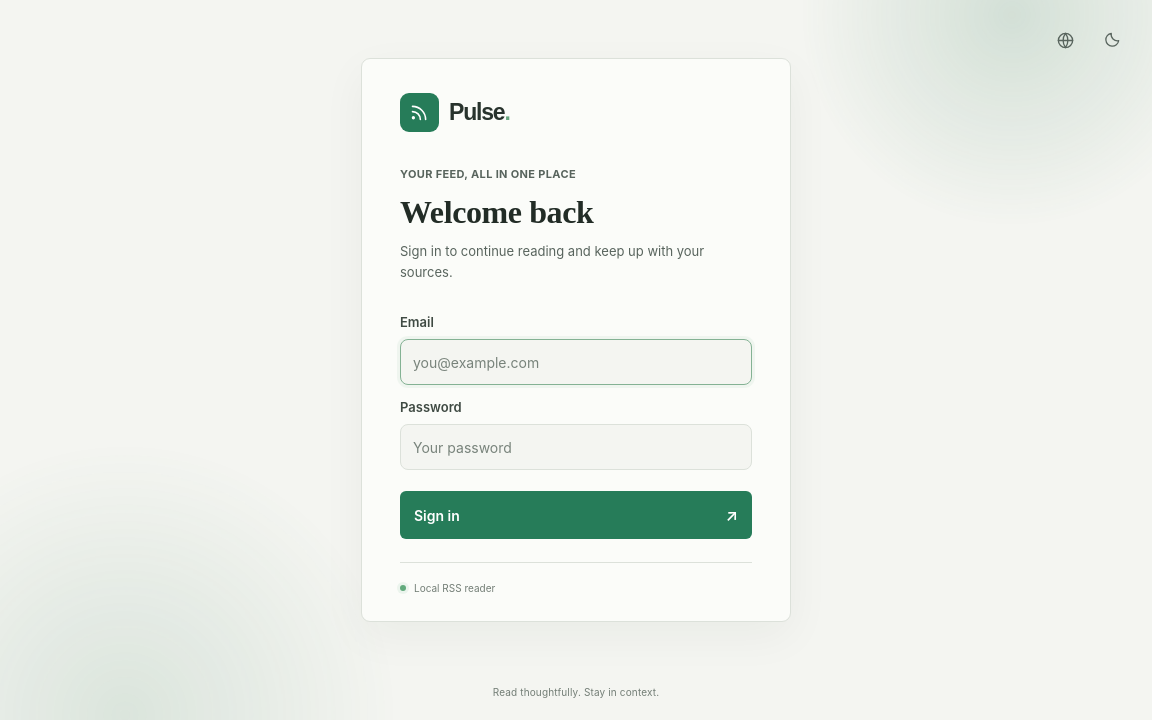
it: session-aware reader shell › shows sign-in before loading the private library and returns to sign-in after logout
This screenshot has width=1152, height=720.
Check: the heading "Welcome back" is shown, box [400,194,593,230]
Type "reader@example.com" into the field labelled "Email" at {"x": 576, "y": 362}, box [400,340,752,386]
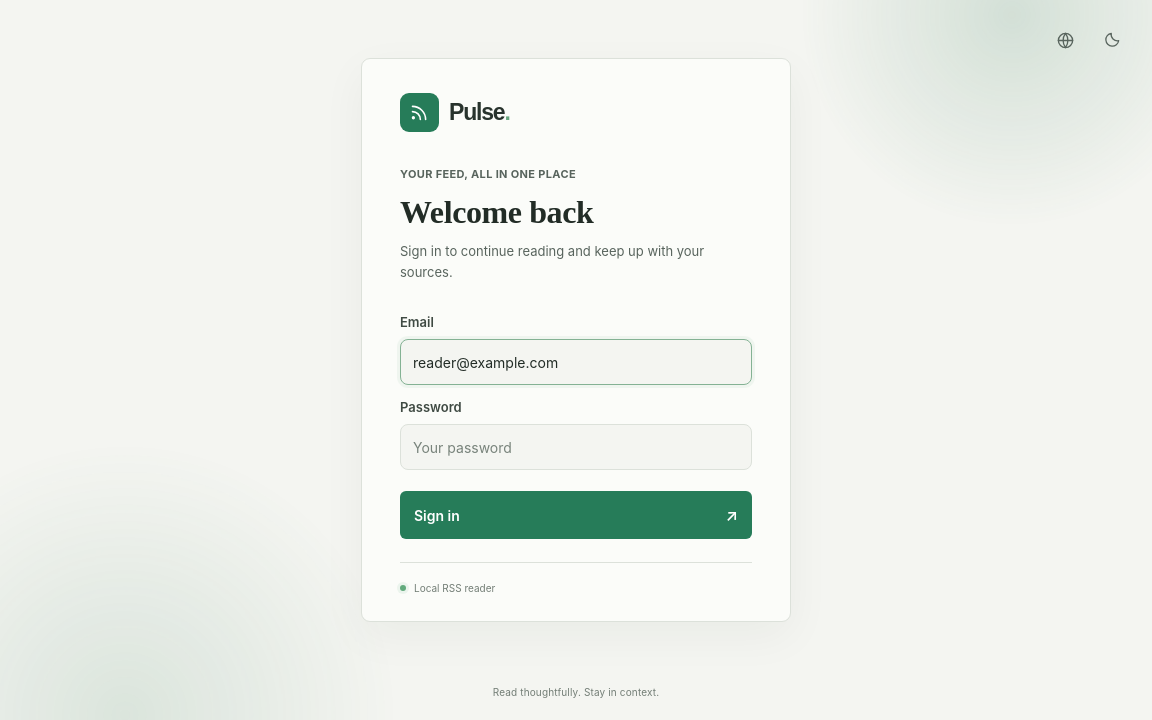
Type "a-long-password" into the password field labelled "Password" at {"x": 576, "y": 448}, box [400,424,752,470]
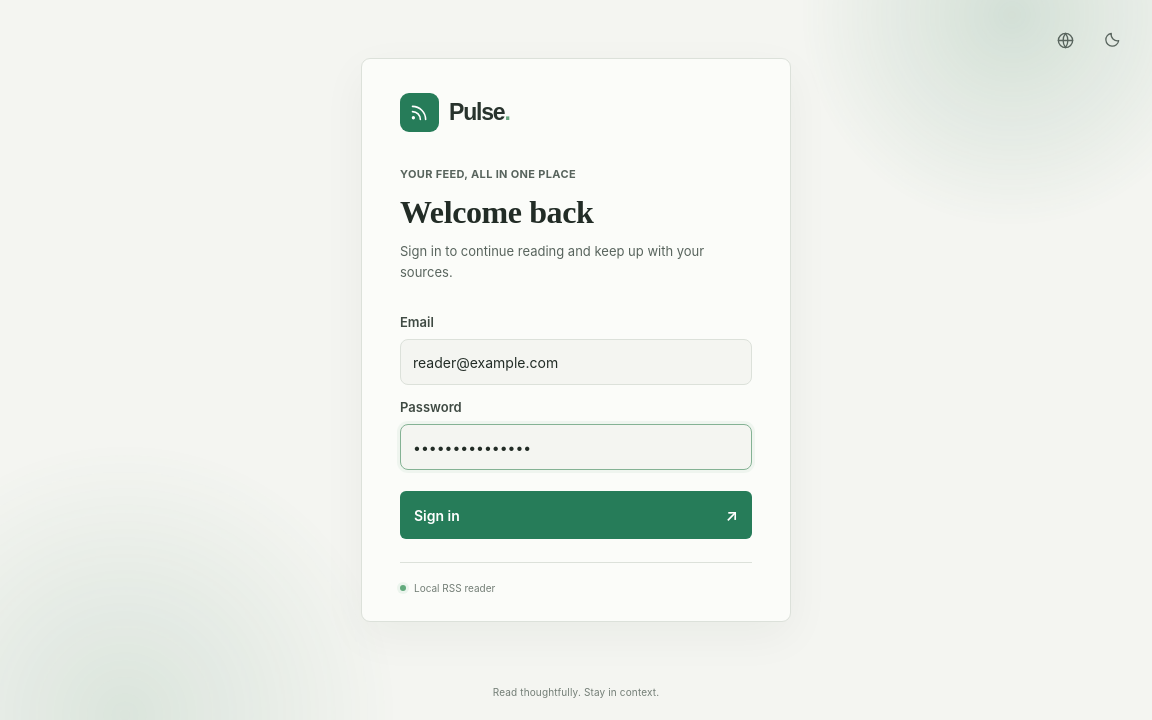
Click the button "Sign in ↗" at {"x": 437, "y": 515}, box [400,492,752,540]
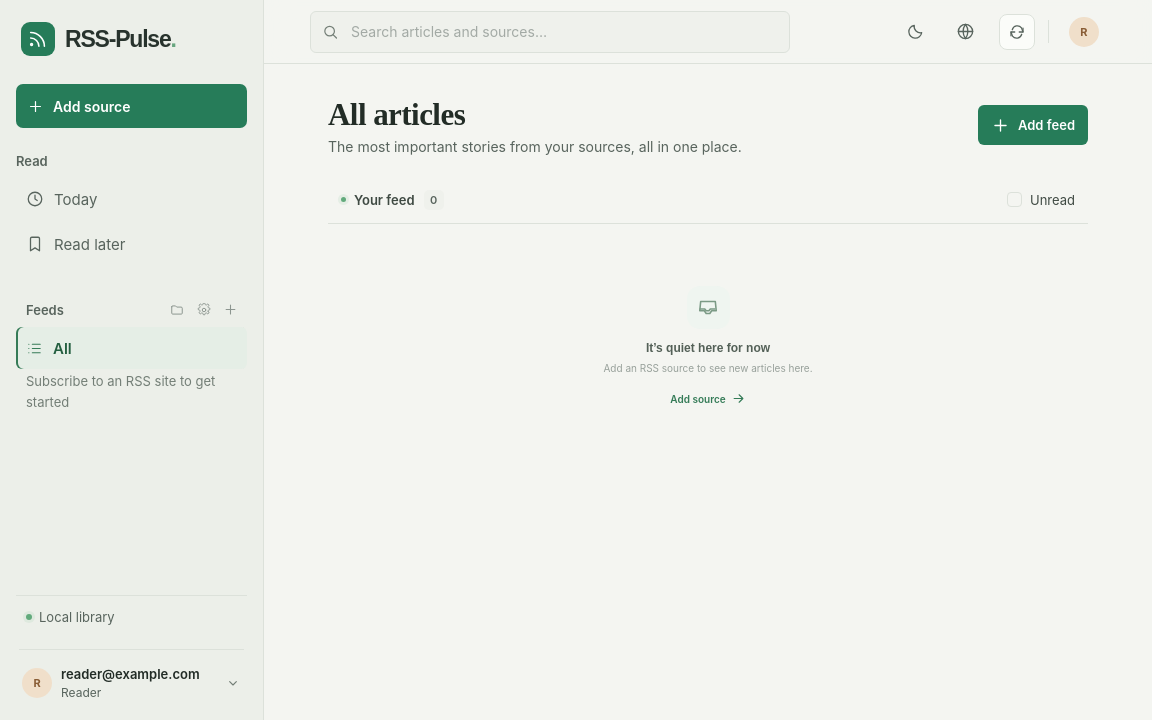
Check: the element showing "R reader@example.com Reader" is shown, box [19,649,244,706]
Click the heading "R reader@example.com Reader" at {"x": 132, "y": 683}, box [19,660,244,706]
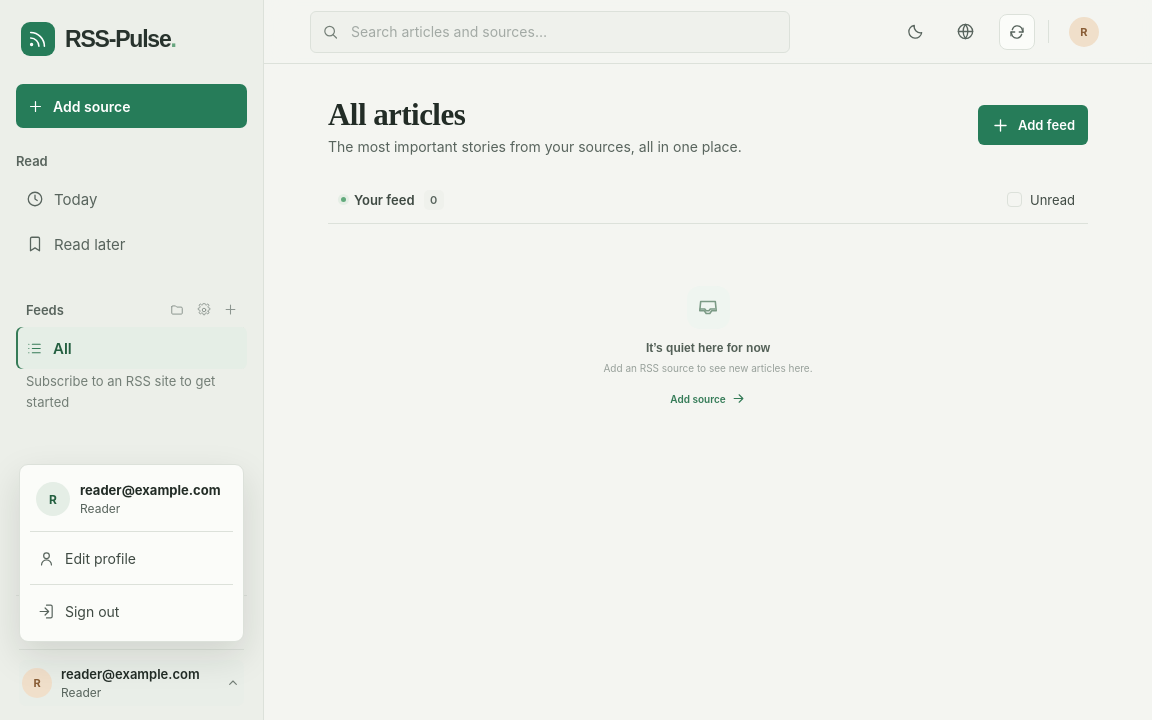
Click the button "Sign out" at {"x": 132, "y": 611}, box [28,589,235,633]
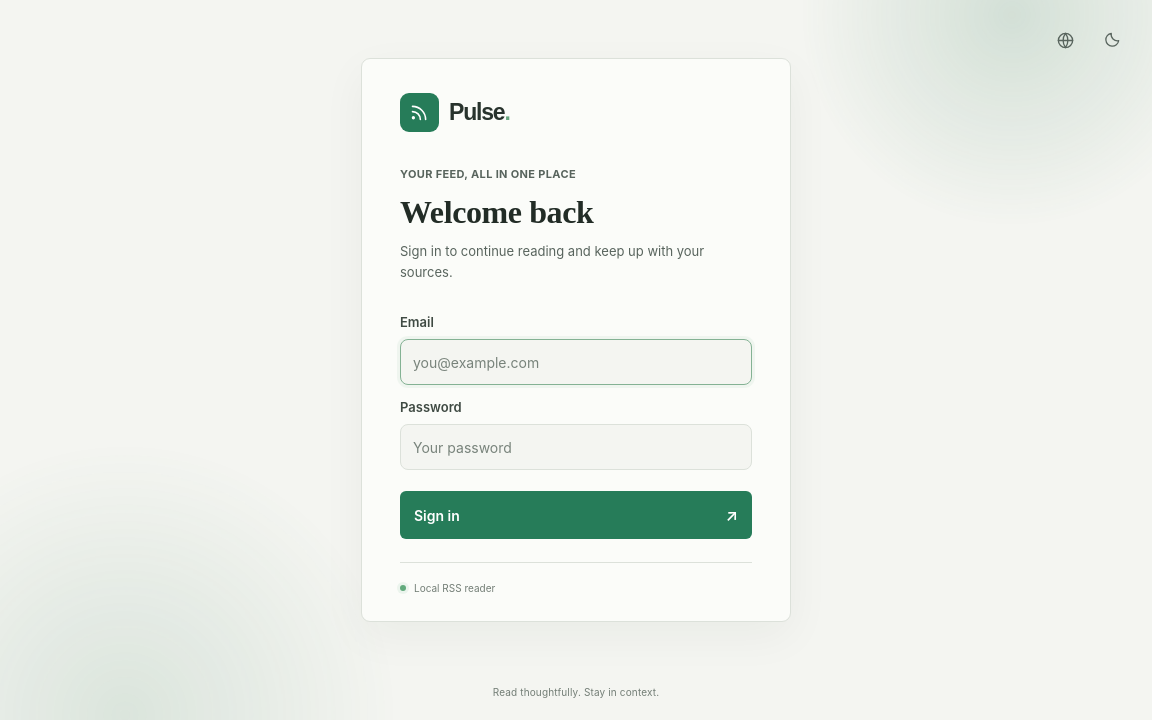
Check: the heading "Welcome back" is shown, box [400,194,593,230]
